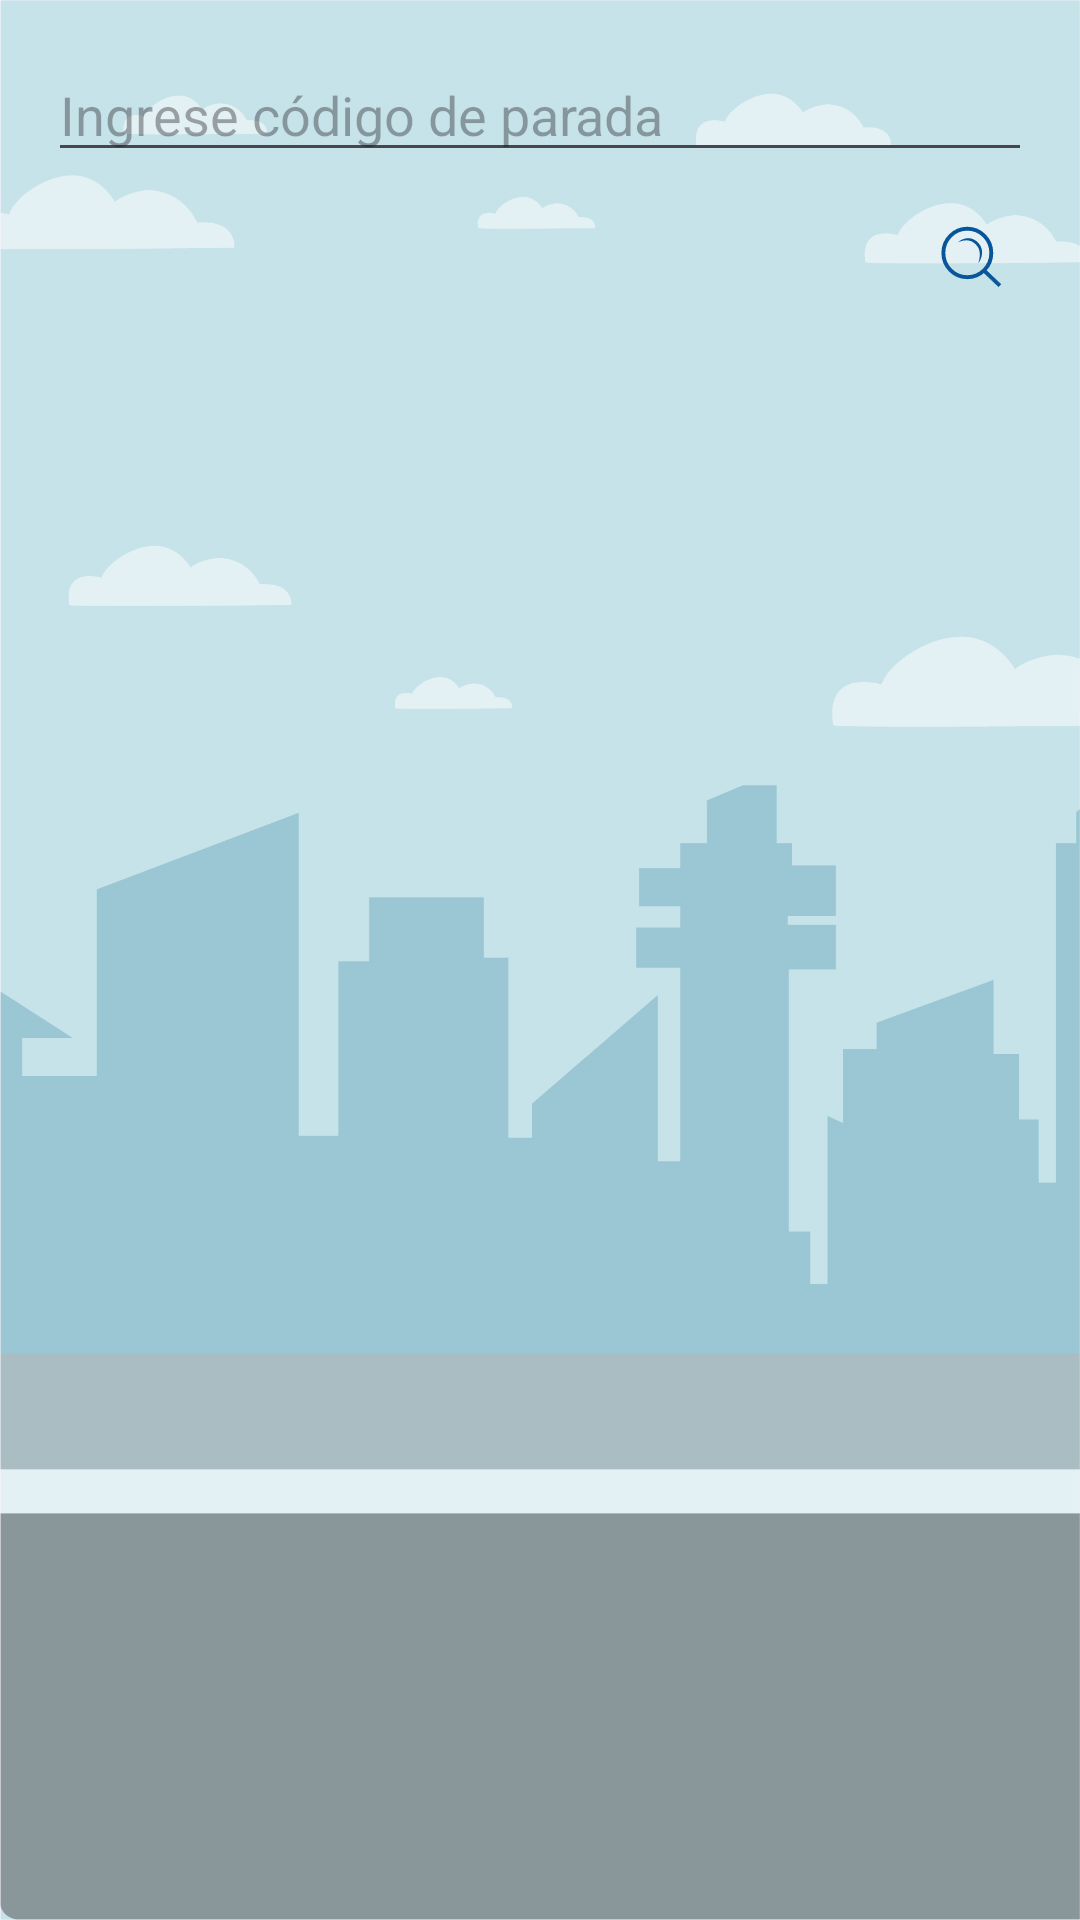

Icon bounding boxes for this 1080 x 1920 phone screenshot, format BBox(x1, y1, x2, y2):
Buscar: BBox(912, 220, 1032, 287)
